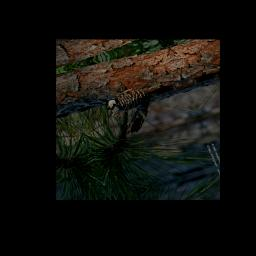Woodpecker: (99, 71, 182, 119)
